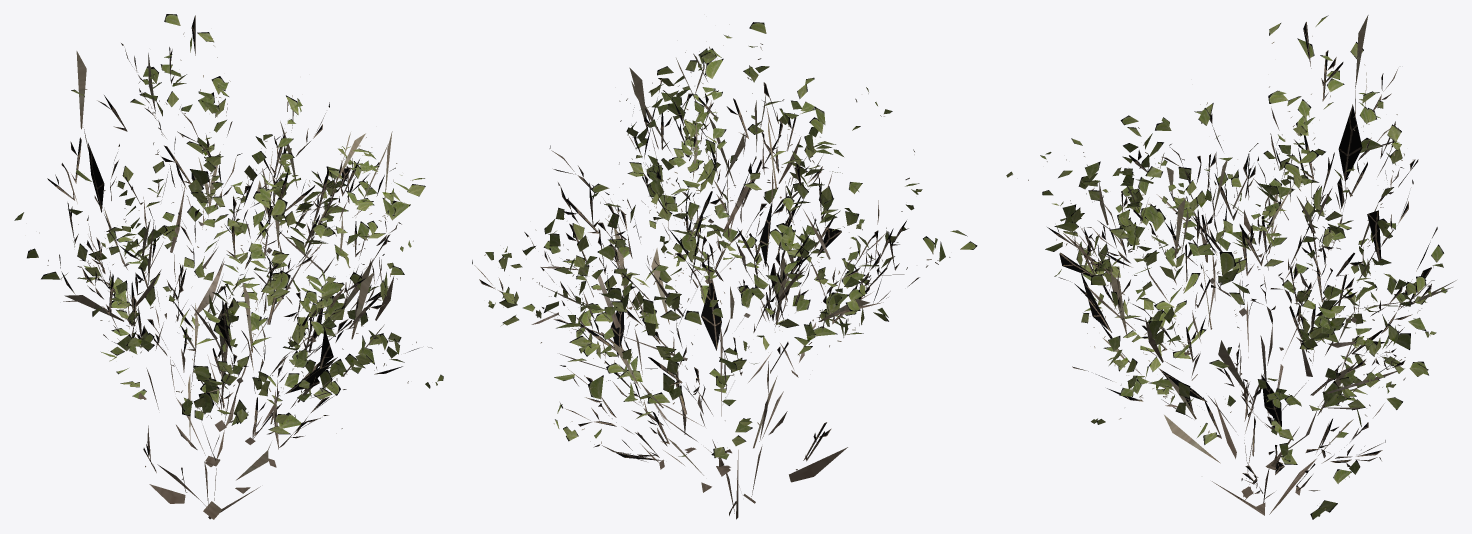
The model's file is chap_a.glb.
3 renders of one model, left to right at view 1: azimuth 30°, elevation 25°; view 2: azimuth 150°, elevation 25°; view 3: azimuth 270°, elevation 25°, orthographic.
Parts seen in each view (by area): view 1: Cube.070; view 2: Cube.070; view 3: Cube.070.
Boxes of the visible parts, x1,y1,x2,y2 form: Cube.070: [14, 14, 443, 519]; Cube.070: [472, 22, 977, 519]; Cube.070: [1006, 15, 1456, 519].
Bounding box in the file's own units: 1.81 × 2.33 × 1.91.
3 materials, 3 textured.
